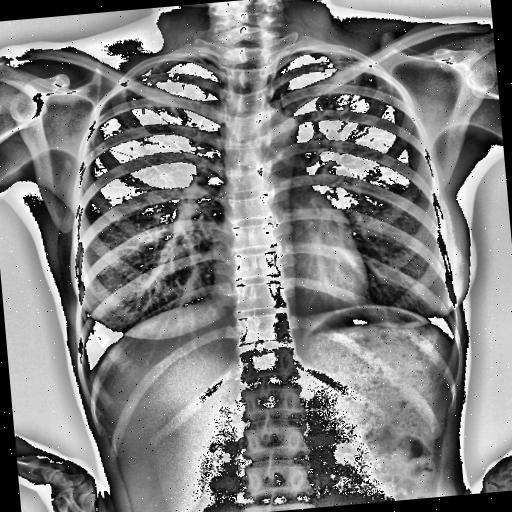13- Pulmonary fibrosis: (304, 52, 391, 144), (302, 52, 388, 136), (112, 58, 188, 132), (112, 60, 190, 122), (124, 70, 210, 120)
